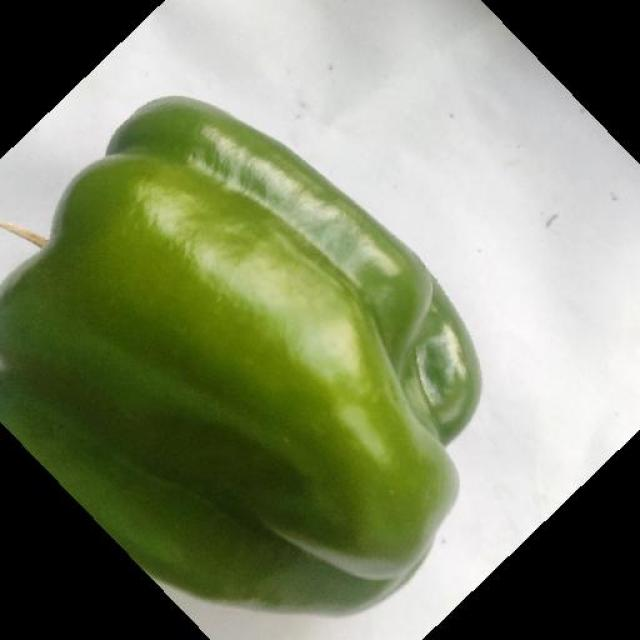Fresh_Capsicum: (61, 95, 458, 616)
